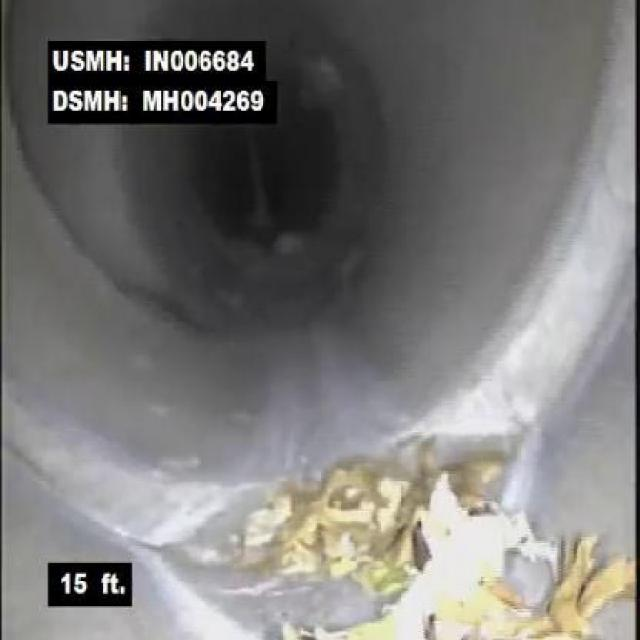Joint offset: (431, 112, 637, 437)
